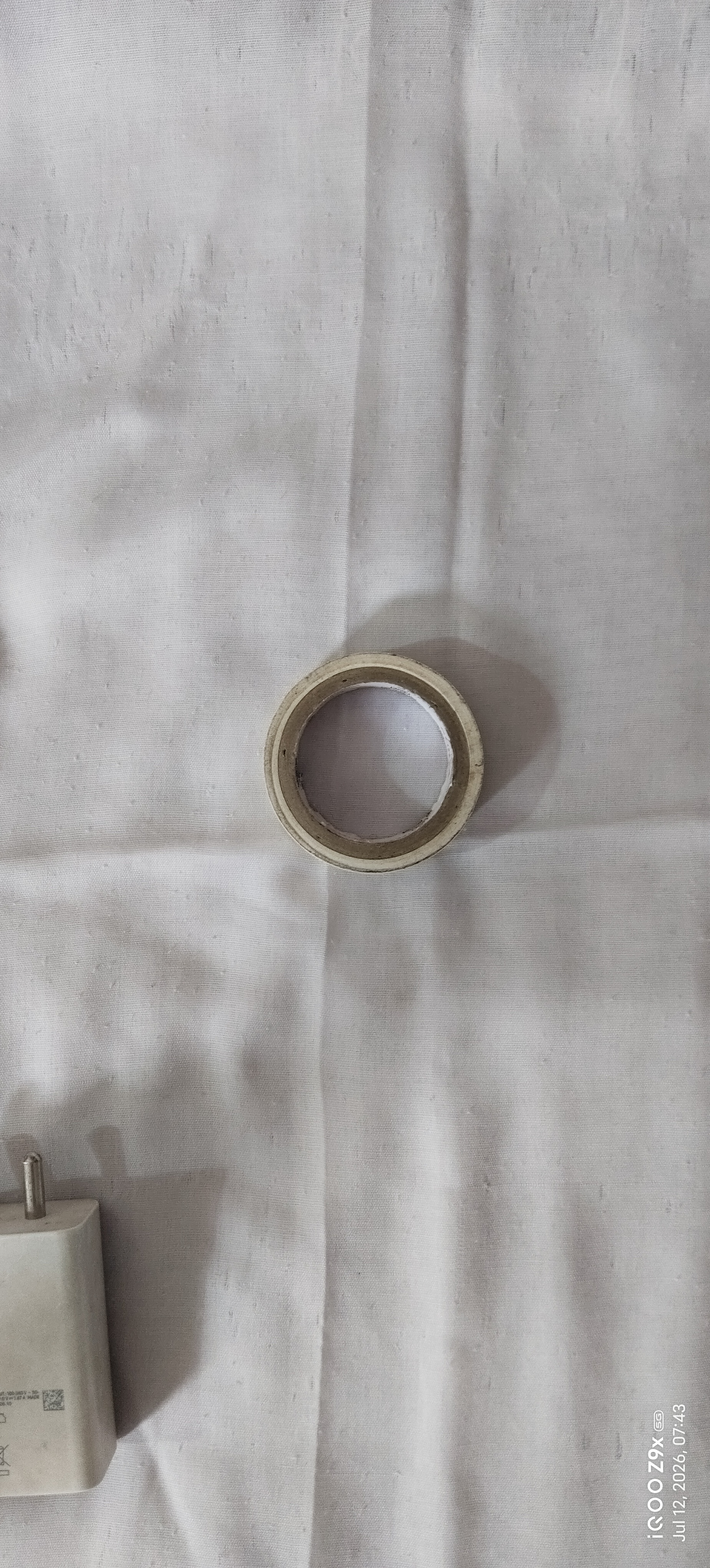charger: (0, 1107, 127, 1534)
tape_roll: (226, 603, 501, 898)
